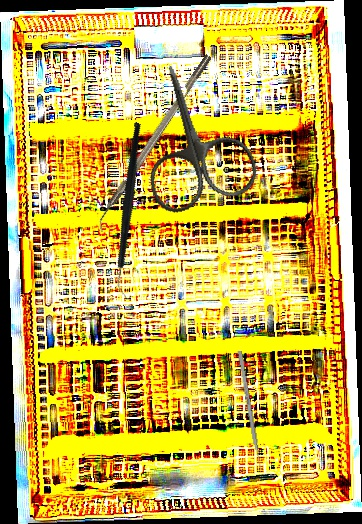Chopper: (61, 121, 201, 300), (90, 53, 221, 235)
Iris Scissors: (119, 49, 263, 219)
Pusher: (237, 350, 264, 477)
